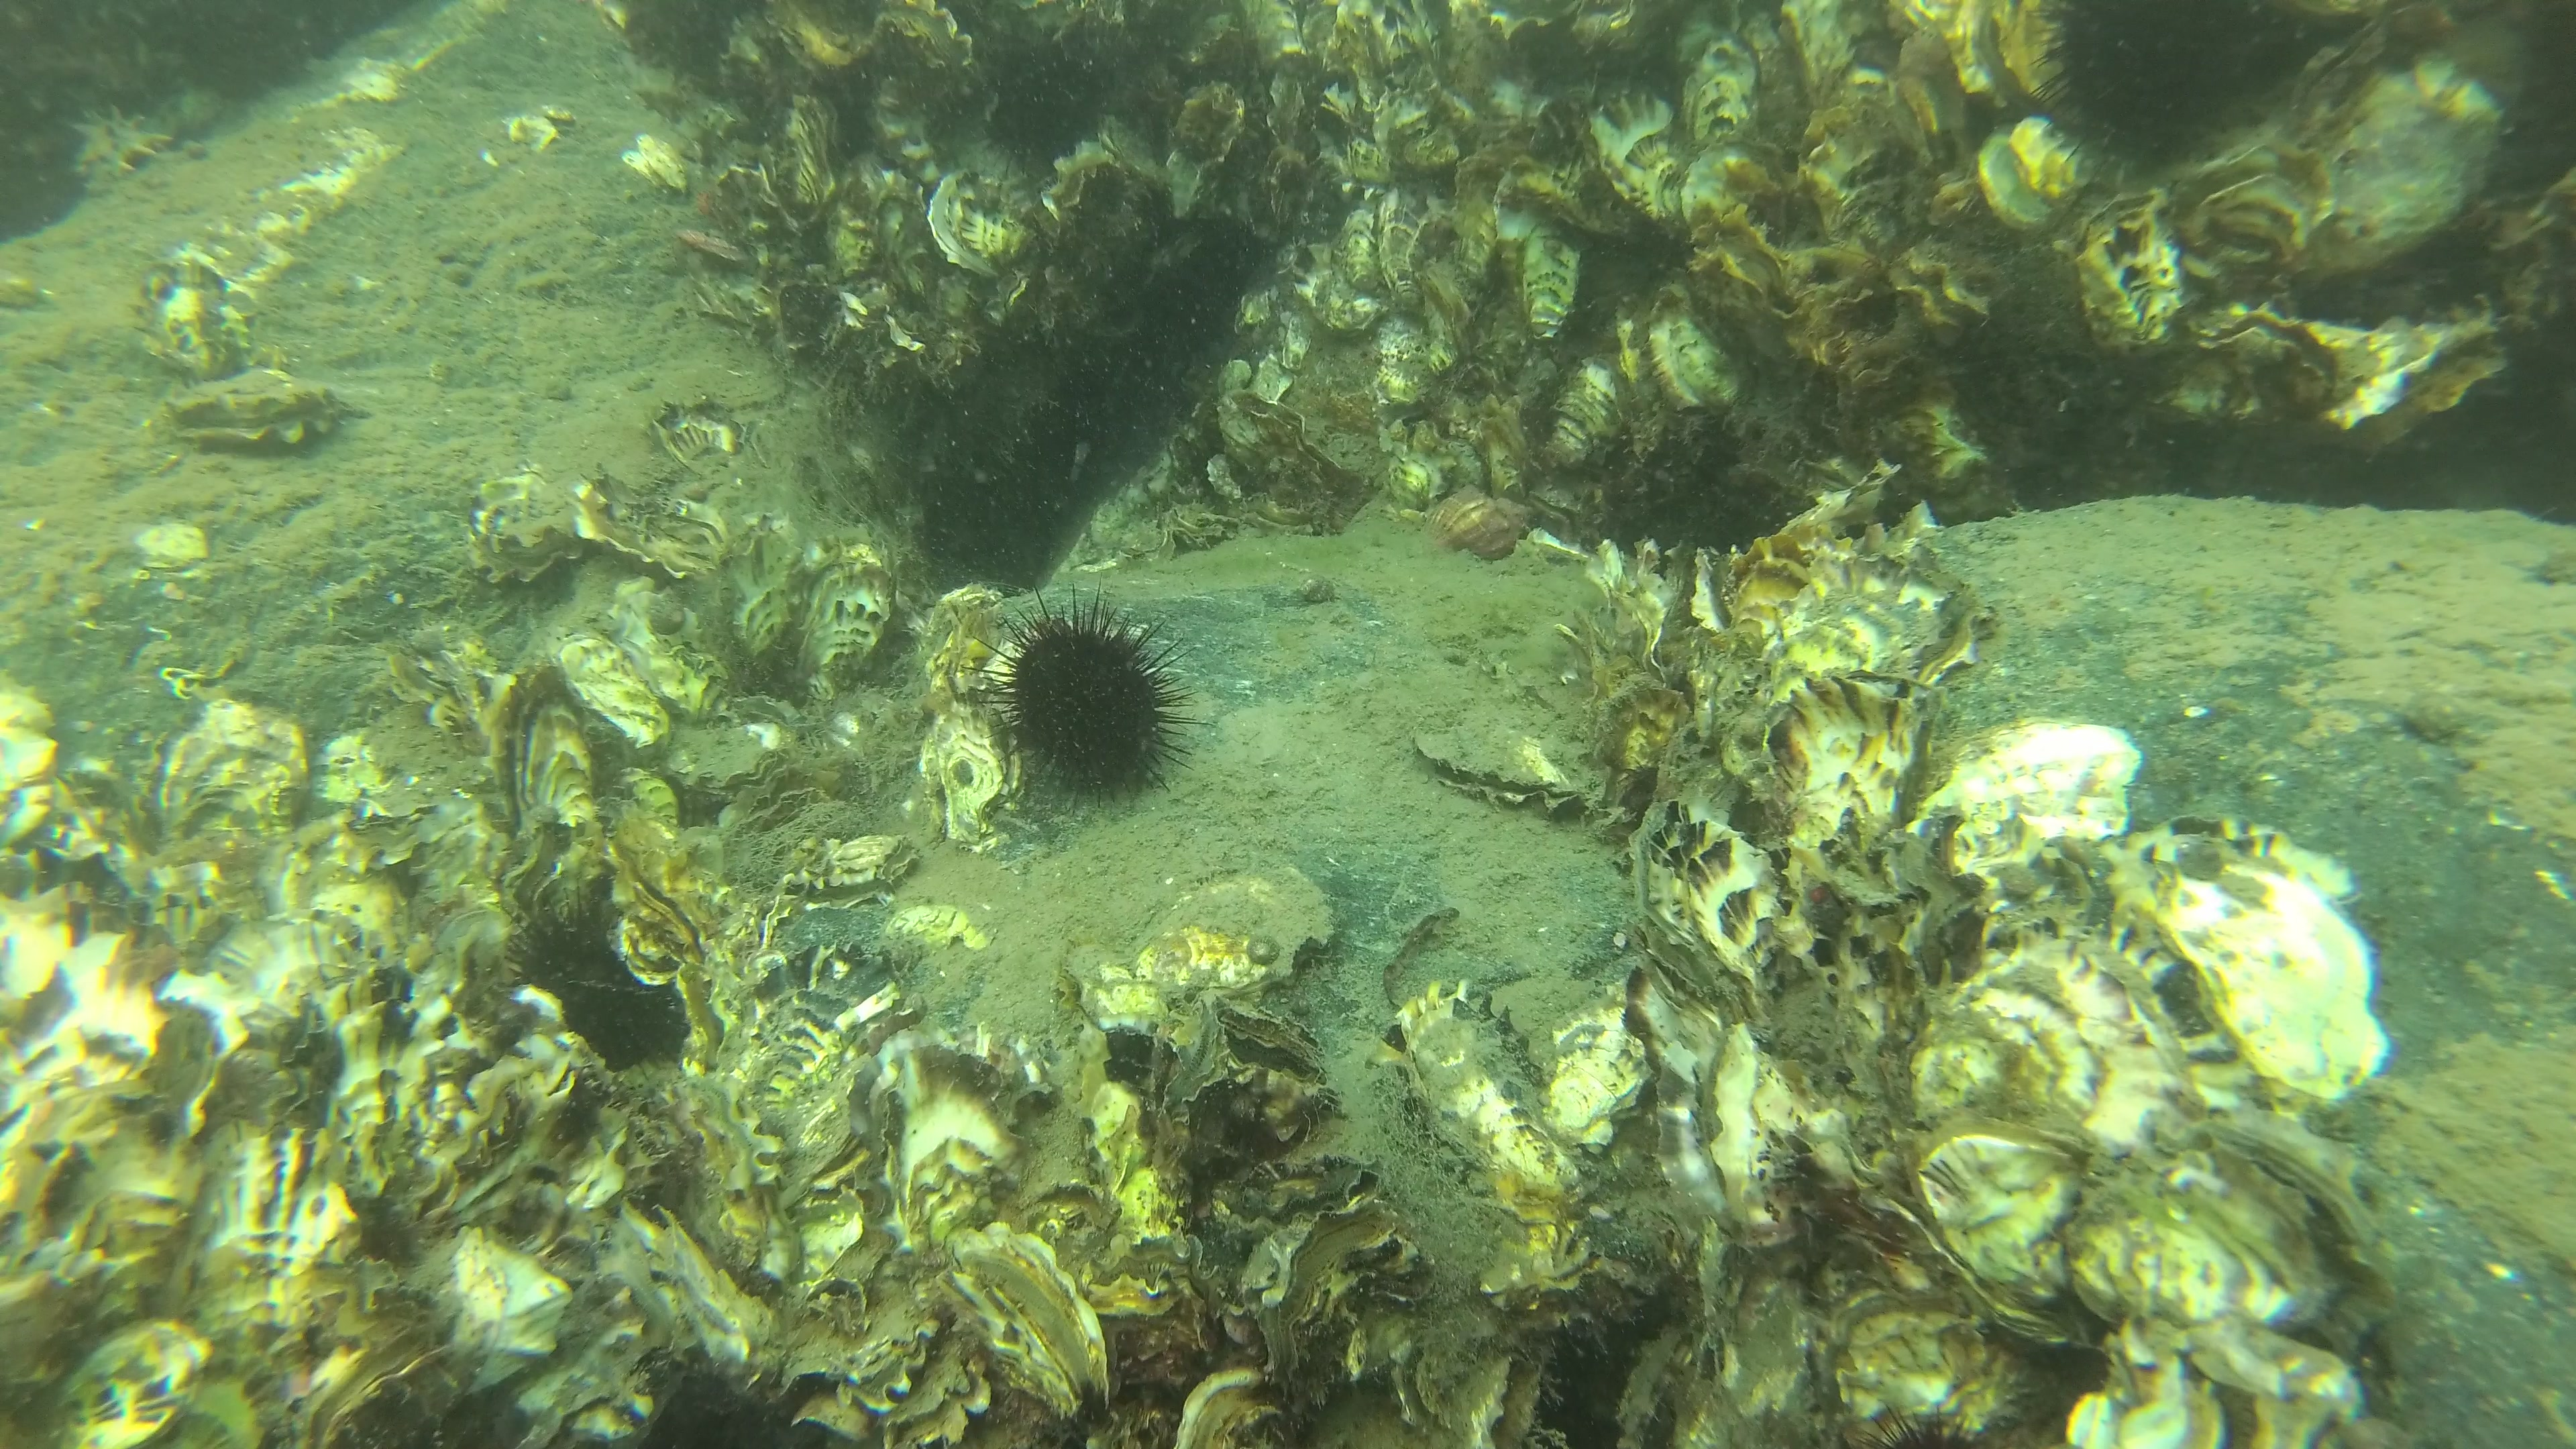echinus: (970, 596, 1203, 817), (2035, 9, 2293, 195), (504, 883, 688, 1070), (982, 74, 1088, 172)
holothurian: (58, 106, 175, 191)
